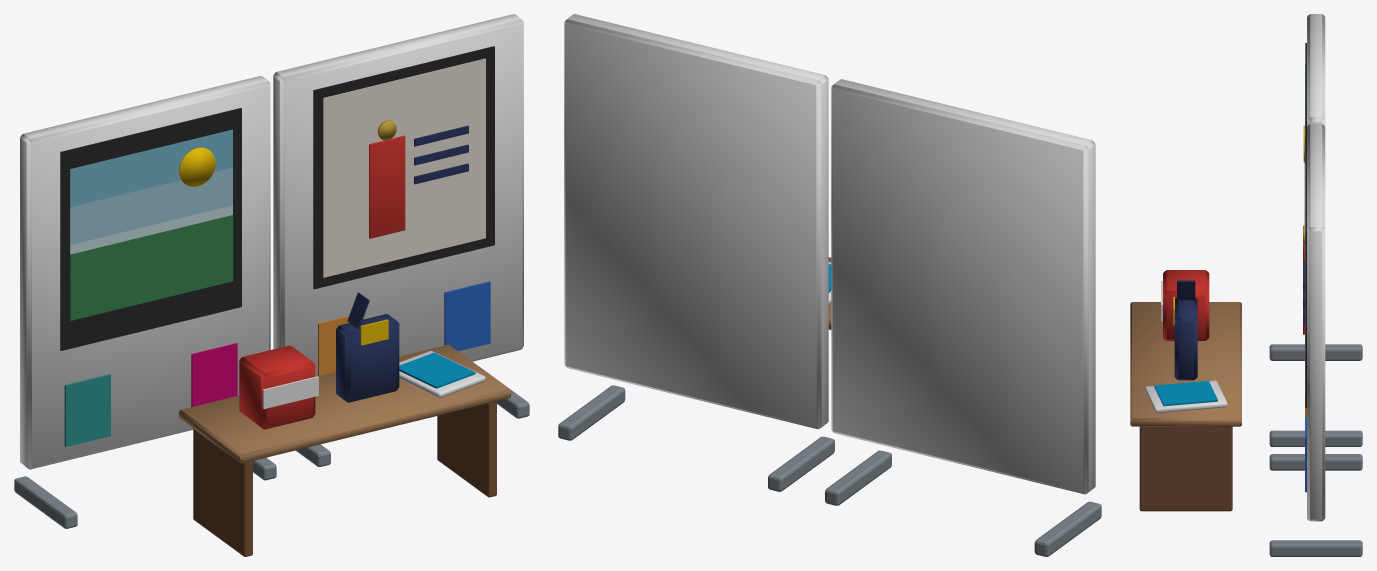
The model's file is m_samplewall.glb.
3 views of the same model, side by side, from view 1: azimuth 30°, elevation 25°; view 2: azimuth 150°, elevation 25°; view 3: azimuth 270°, elevation 25° (orthographic). The views are drawn at different scales.
Visible parts, largest first — view 1: m_samplewall; view 2: m_samplewall; view 3: m_samplewall.
Part boxes in pixels (left/top/right/bottom): m_samplewall: left=14, top=14, right=529, bottom=556; m_samplewall: left=558, top=14, right=1101, bottom=556; m_samplewall: left=1130, top=14, right=1362, bottom=556.
Bounding box in the file's own units: 1.1 × 0.8 × 0.5.
